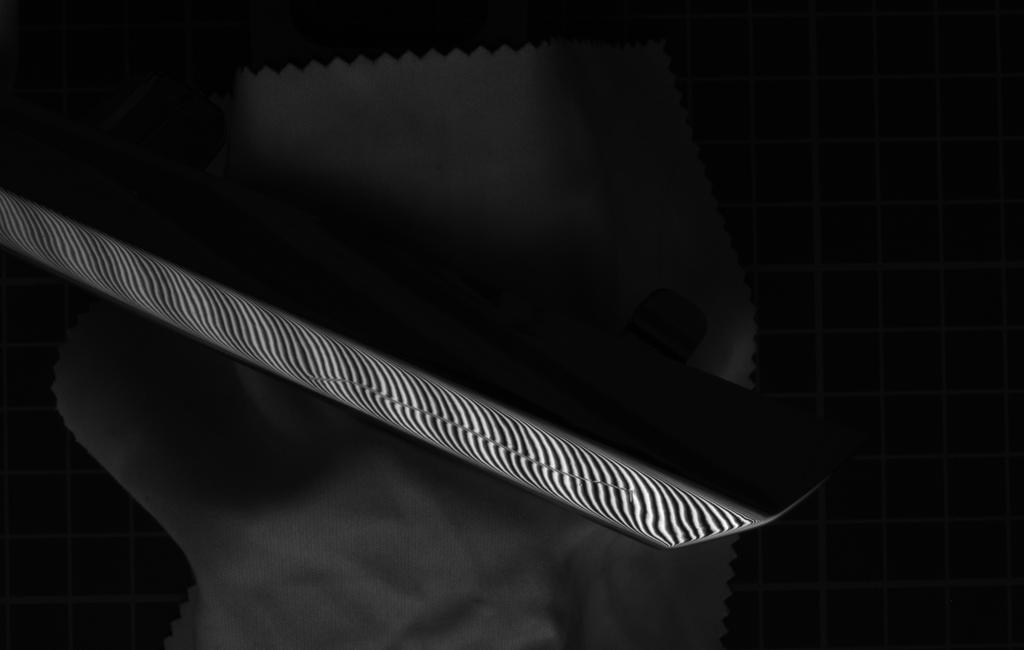Scratch: (287, 358, 650, 498)
